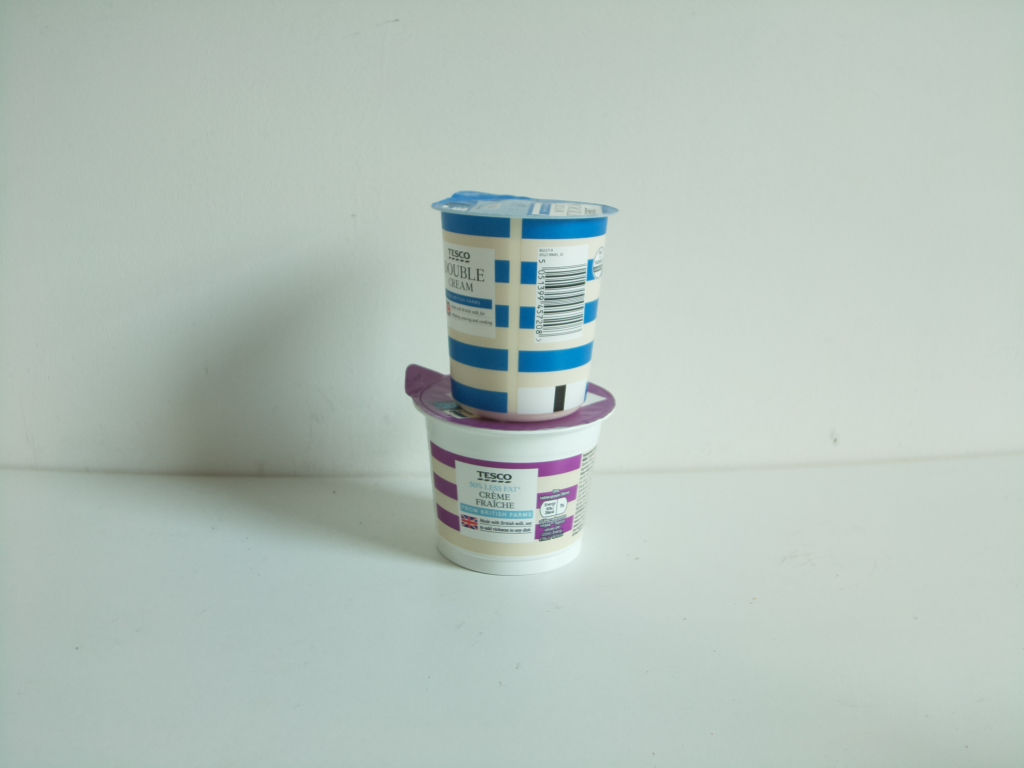cream: (398, 363, 615, 575), (426, 191, 617, 421)
